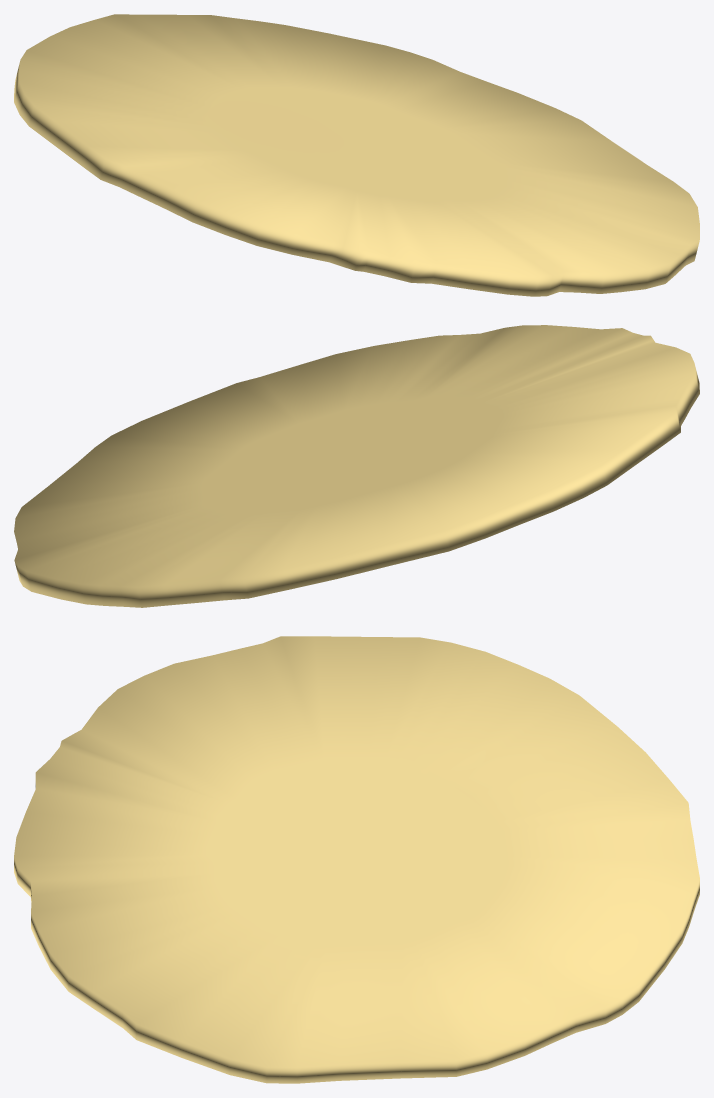
Rendered from pizza_cut.fbx.
The picture shows the model from 3 angles, top to bottom: view 1: azimuth 30°, elevation 25°; view 2: azimuth 150°, elevation 25°; view 3: azimuth 270°, elevation 25°; orthographic projection. The views are drawn at different scales.
Parts seen in each view (by area): view 1: Cube.006; view 2: Cube.006; view 3: Cube.006.
Part boxes in pixels (x1,y1,x2,y2): Cube.006: (14, 14, 699, 296); Cube.006: (14, 325, 699, 607); Cube.006: (14, 636, 699, 1083).
Size of the model in its own units: 385 by 120 by 411.
